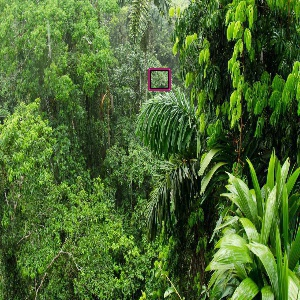square: (146, 67, 173, 93)
